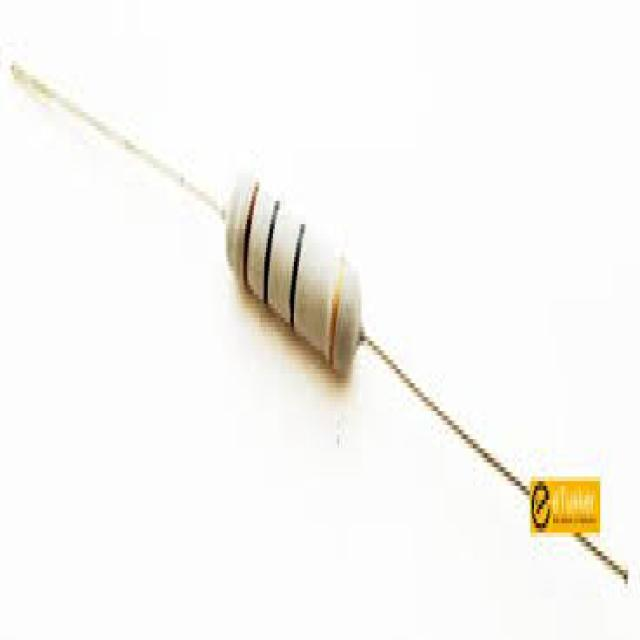Resistor: (224, 167, 366, 379)
